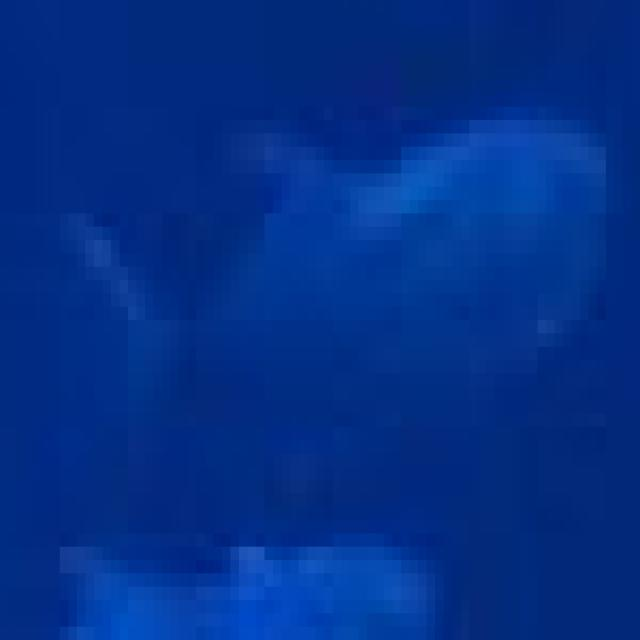fish: (8, 1, 640, 627)
